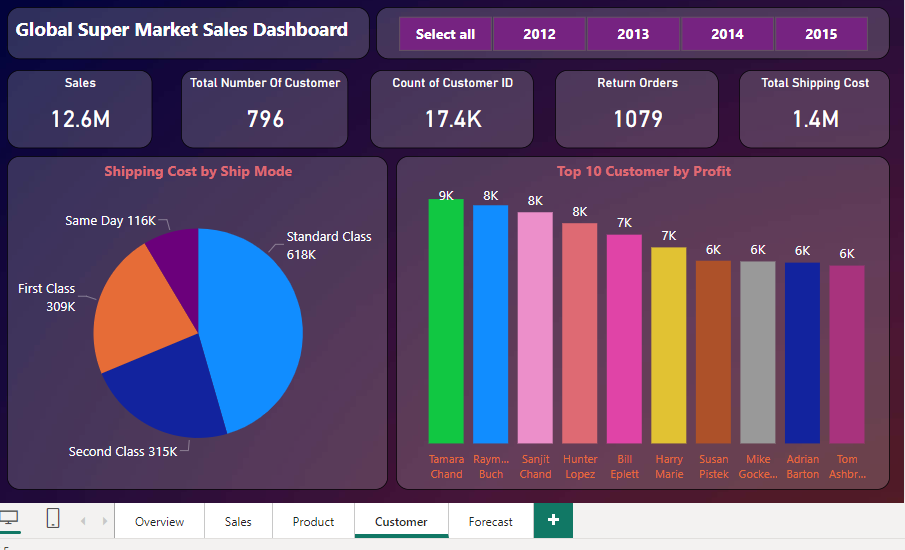

The page's visual inventory and layout, read from the dashboard file:
{"tool":"powerbi","page":{"name":"Customer","canvas":[1280,720],"ordinal":3},"visuals":[{"type":"textbox","box":[10.1,16.8,514,73.9],"z":0},{"type":"slicer","fields":{"Values":["Orders.Order Date.Variation.Date Hierarchy.Year"]},"box":[533.5,17.2,728,74.4],"z":1000},{"type":"card","title":"Total Number Of Customer","fields":{"Values":["Orders.Customer Name"]},"box":[256.5,106.3,236.7,110.6],"z":2000},{"type":"card","title":"Count of Customer ID","fields":{"Values":["Orders.Customer ID"]},"box":[524.4,106.3,232.4,110.6],"z":3000},{"type":"card","title":"Return Orders","fields":{"Values":["Returns.Returned"]},"box":[786.6,106.3,232.4,110.6],"z":4000},{"type":"columnChart","title":"Top 10 Customer by Profit","fields":{"Category":["Orders.Customer Name"],"Y":["Orders.Profit"]},"box":[561.3,228.2,700.2,473.4],"z":5000},{"type":"card","title":"Total Shipping Cost","fields":{"Values":["Orders.Shipping Cost"]},"box":[1047.4,106.3,214,110.6],"z":6000},{"type":"pieChart","title":"Shipping Cost by Ship Mode","fields":{"Category":["Orders.Ship Mode"],"Y":["Orders.Shipping Cost"]},"box":[9.9,228.2,540,473.4],"z":7000},{"type":"card","title":"Sales","fields":{"Values":["Orders.Sales"]},"box":[9.9,106.3,205.5,110.6],"z":8000}]}

Visuals, with their boxes on the page's 1280x720 design canvas (x1, y1, x2, y2). These are canvas units, not pixel positions in the 905x550 screenshot, which may show the page scaled, cropped or inside an application window:
textbox: l=10, t=17, r=524, b=91
slicer - Orders.Order Date.Variation.Date Hierarchy.Year: l=534, t=17, r=1262, b=92
"Total Number Of Customer" card: l=256, t=106, r=493, b=217
"Count of Customer ID" card: l=524, t=106, r=757, b=217
"Return Orders" card: l=787, t=106, r=1019, b=217
"Top 10 Customer by Profit" columnChart: l=561, t=228, r=1262, b=702
"Total Shipping Cost" card: l=1047, t=106, r=1261, b=217
"Shipping Cost by Ship Mode" pieChart: l=10, t=228, r=550, b=702
"Sales" card: l=10, t=106, r=215, b=217
